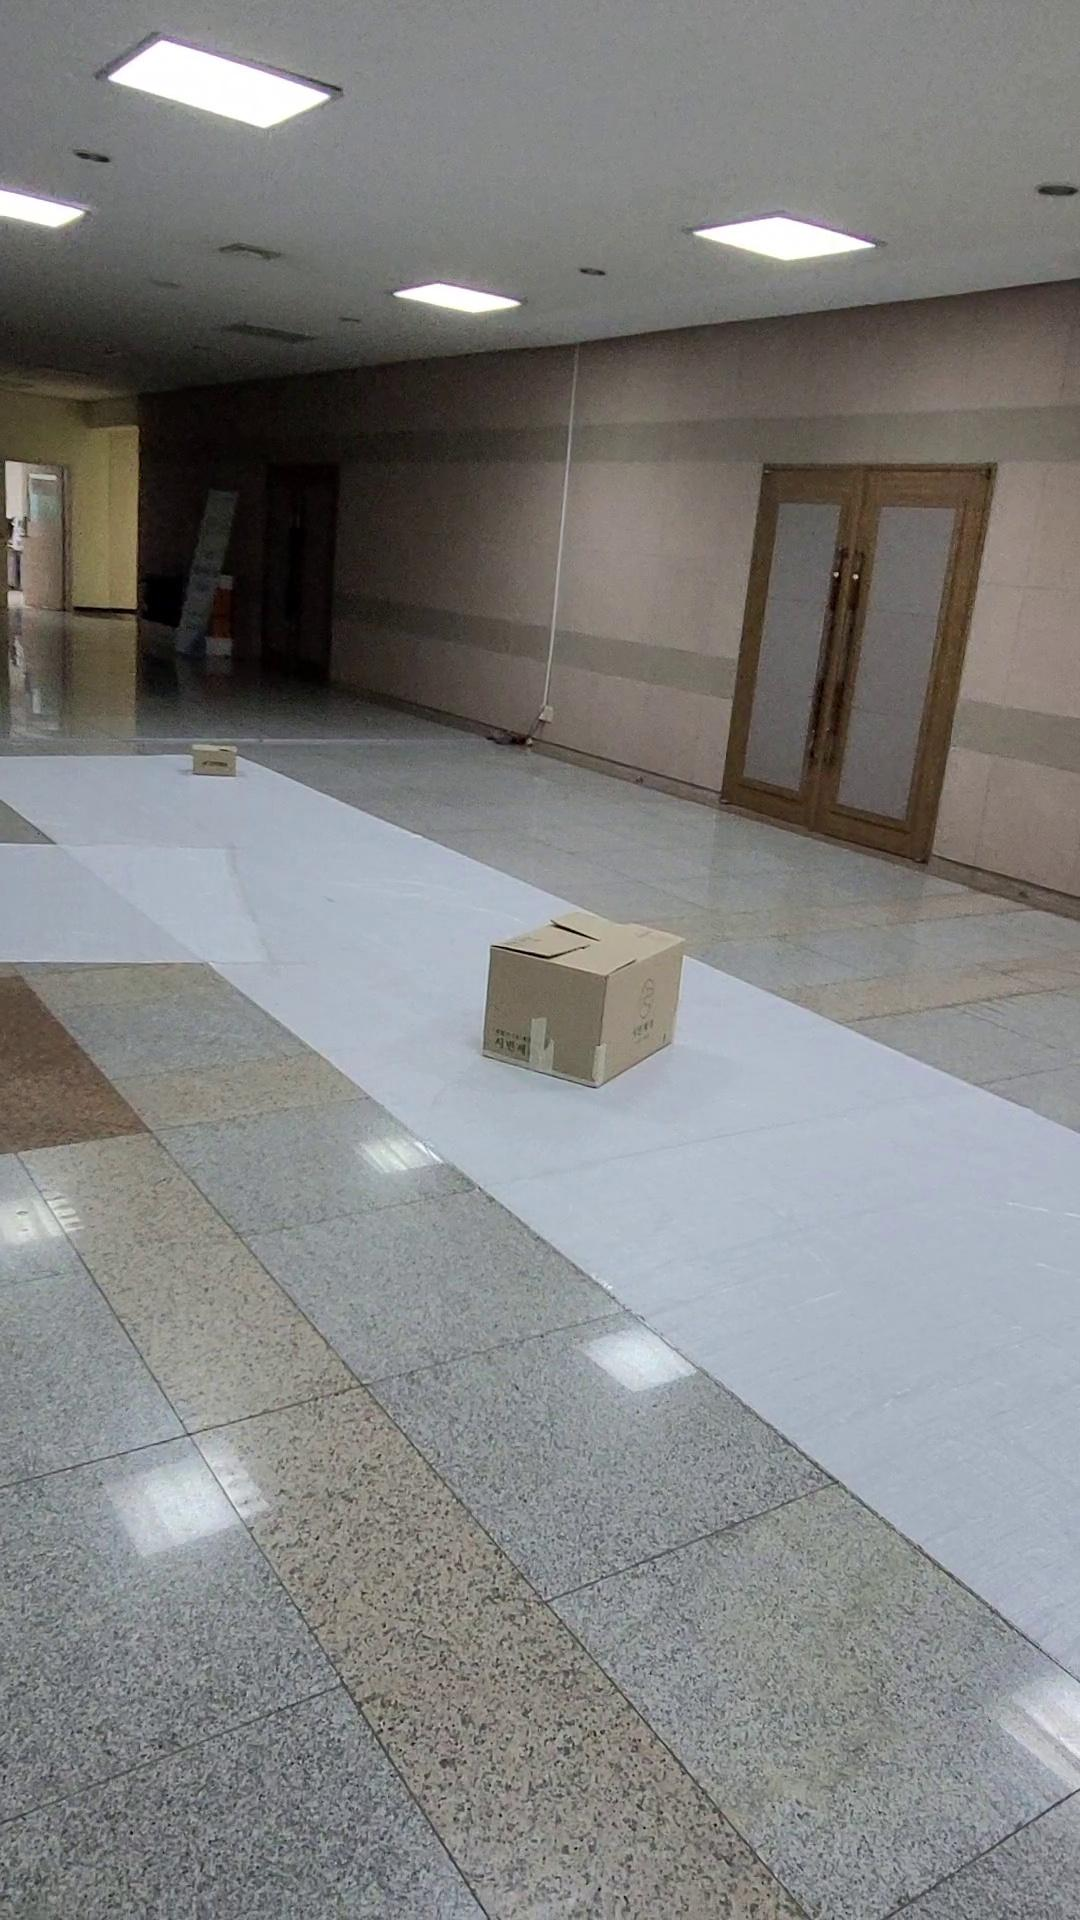Box: (463, 910, 717, 1097), (175, 723, 268, 790)
